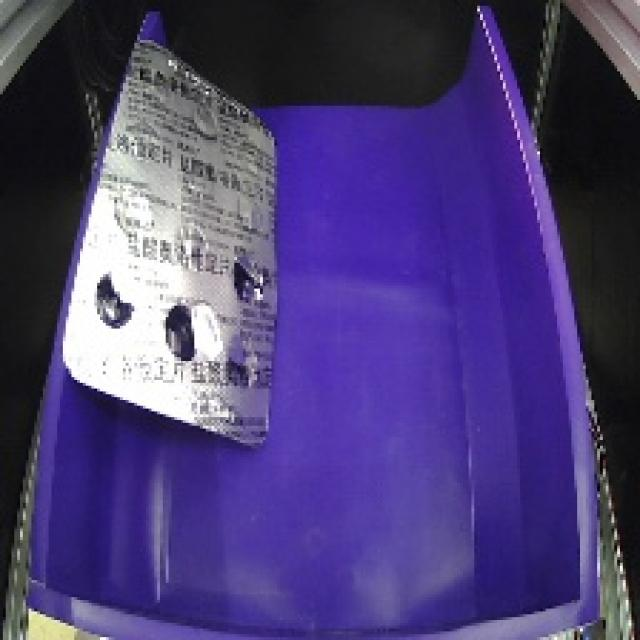med_plate: (45, 33, 295, 457)
